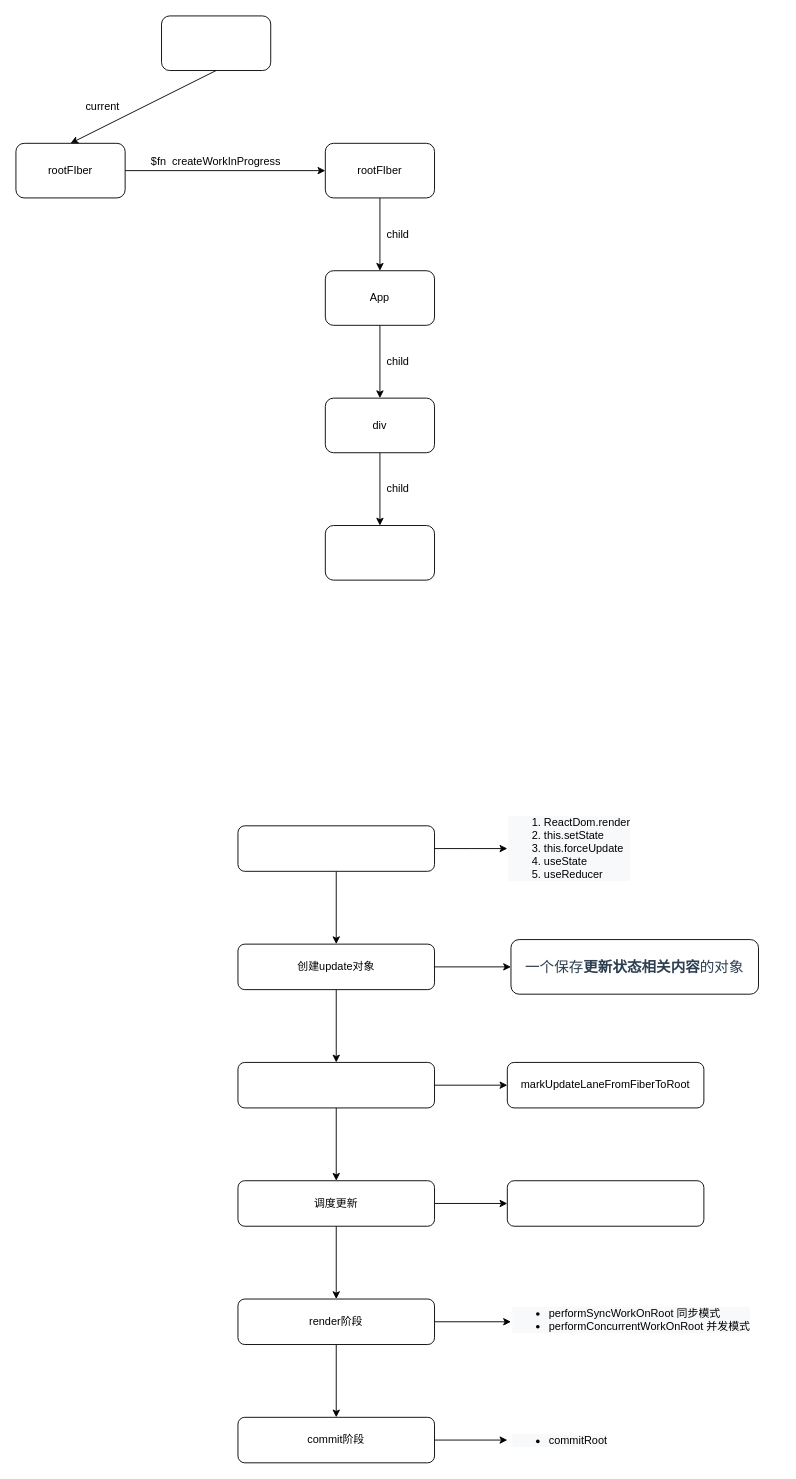
The diagram is 796 pixels wide and 1479 high, and some of its shapes have lost their labels. Here are the shapes that lost their labels. From the top down, the box of each, then its label:
(161, 15, 271, 71): FiberRootNode
(324, 525, 435, 580): header
(237, 825, 435, 871): 触发状态更新（多种方式）
(237, 1062, 435, 1108): 从fiber到root
(506, 1180, 704, 1226): ensureRootIsScheduled
